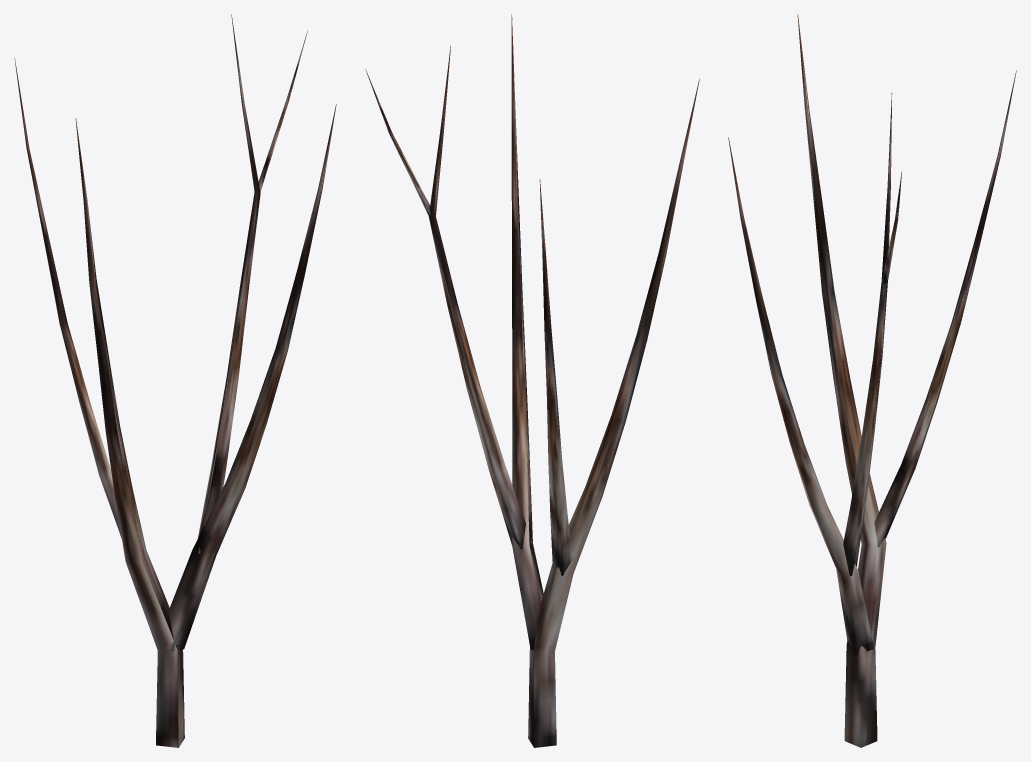
File: No Leaves 1.fbx
The picture shows the model from 3 angles, left to right: view 1: azimuth 30°, elevation 25°; view 2: azimuth 150°, elevation 25°; view 3: azimuth 270°, elevation 25°; orthographic projection.
Visible parts, largest first — view 1: Tree No Leaves 1; view 2: Tree No Leaves 1; view 3: Tree No Leaves 1.
Part boxes in pixels (box(x1,y1,x2,y2)): Tree No Leaves 1: box(14, 14, 336, 747); Tree No Leaves 1: box(365, 14, 699, 747); Tree No Leaves 1: box(728, 14, 1016, 747).
Size of the model in its own units: 198 by 462 by 176.
Materials: 1 (1 with a texture image).
